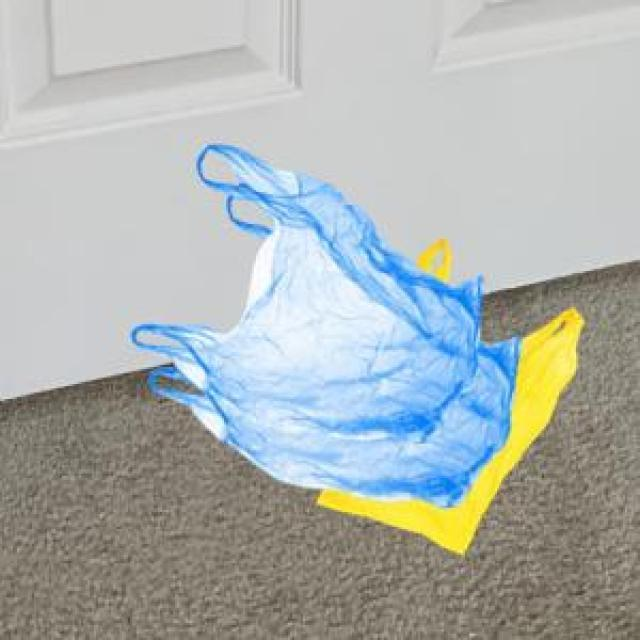waste: (132, 145, 582, 553)
